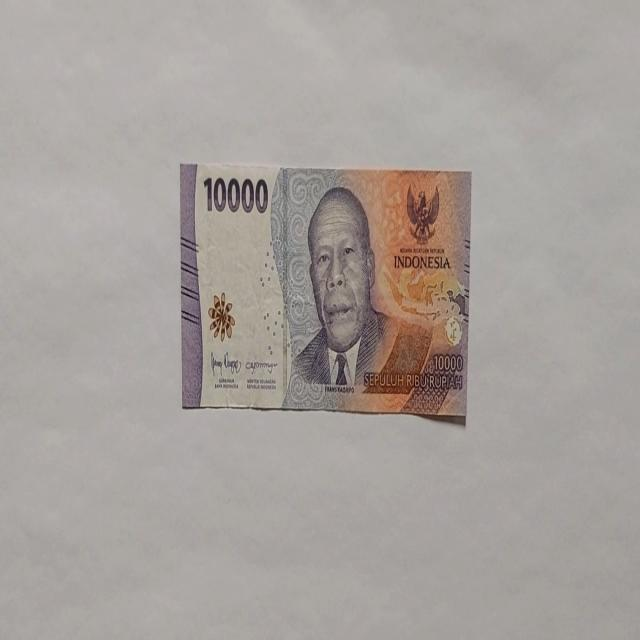sepuluh ribu rupiah: (180, 160, 472, 420)
